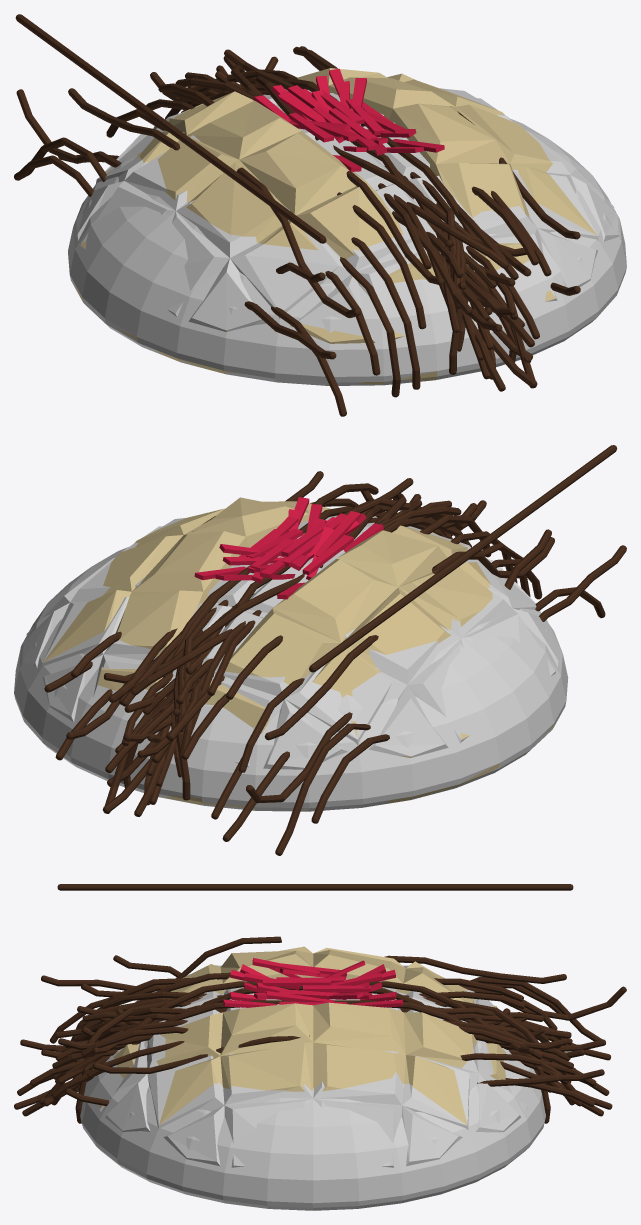
File: yakimelon.obj
3 renders of one model, top to bottom at view 1: azimuth 30°, elevation 25°; view 2: azimuth 150°, elevation 25°; view 3: azimuth 270°, elevation 25°, orthographic. The views are drawn at different scales.
Size of the model in its own units: 600 by 226 by 780.
